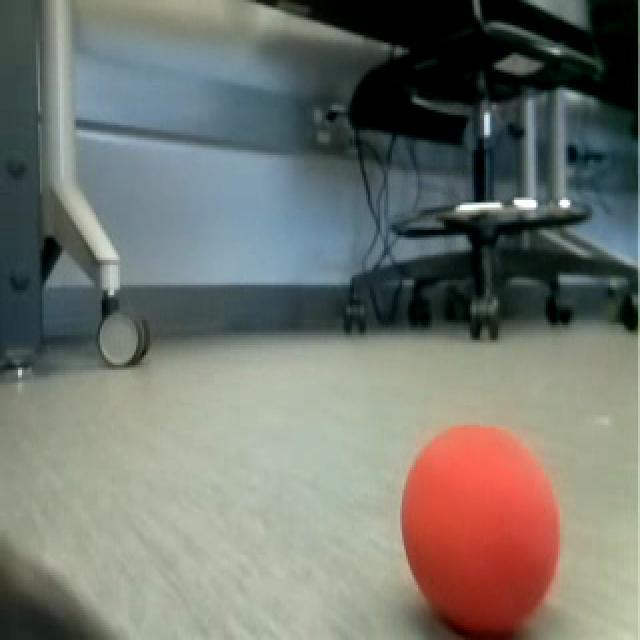ping-pong-ball: (397, 416, 563, 640)
